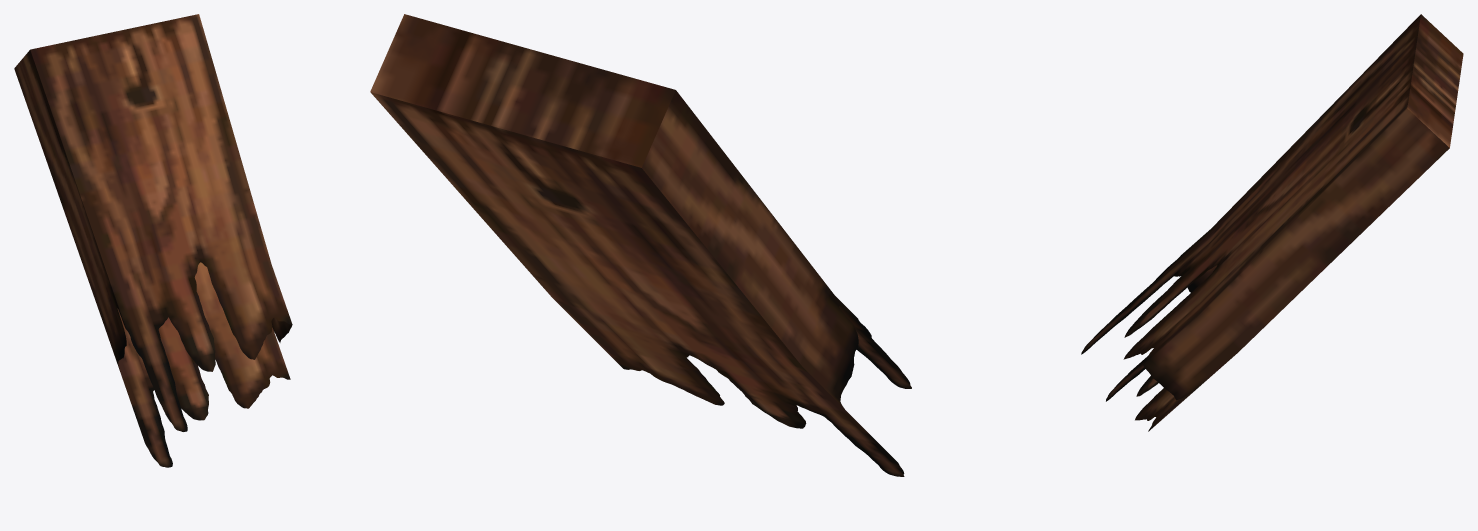
The model's file is OVERHILL_A_01_BROKEN_BOARD_09.fbx.
The picture shows the model from 3 angles, left to right: view 1: azimuth 30°, elevation 25°; view 2: azimuth 150°, elevation 25°; view 3: azimuth 270°, elevation 25°; orthographic projection. The views are drawn at different scales.
Visible parts, largest first — view 1: OVERHILL_A_01_BROKEN_BOARD_09; view 2: OVERHILL_A_01_BROKEN_BOARD_09; view 3: OVERHILL_A_01_BROKEN_BOARD_09.
Part boxes in pixels (x1=…): OVERHILL_A_01_BROKEN_BOARD_09: x1=14, y1=14, x2=292, y2=467; OVERHILL_A_01_BROKEN_BOARD_09: x1=370, y1=14, x2=911, y2=476; OVERHILL_A_01_BROKEN_BOARD_09: x1=1081, y1=14, x2=1463, y2=431.
Bounding box in the file's own units: 3804 × 7306 × 7091.
Materials: 1 (1 with a texture image).
